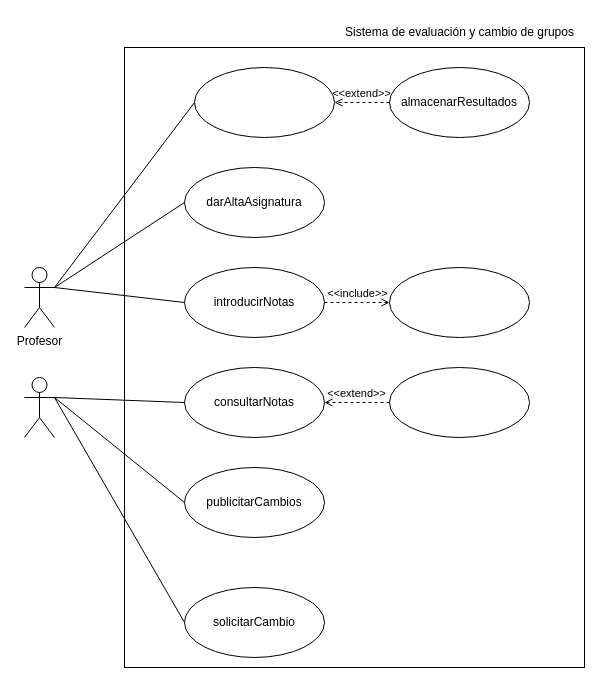
This 602x685 diagram has some shape labels left out. Each missing label, with the centre of its shape:
Alumno: the point at 39,407
avisarAlumnos: the point at 459,302
evaluarActividades: the point at 264,102
SolicitarTutoria: the point at 459,402
